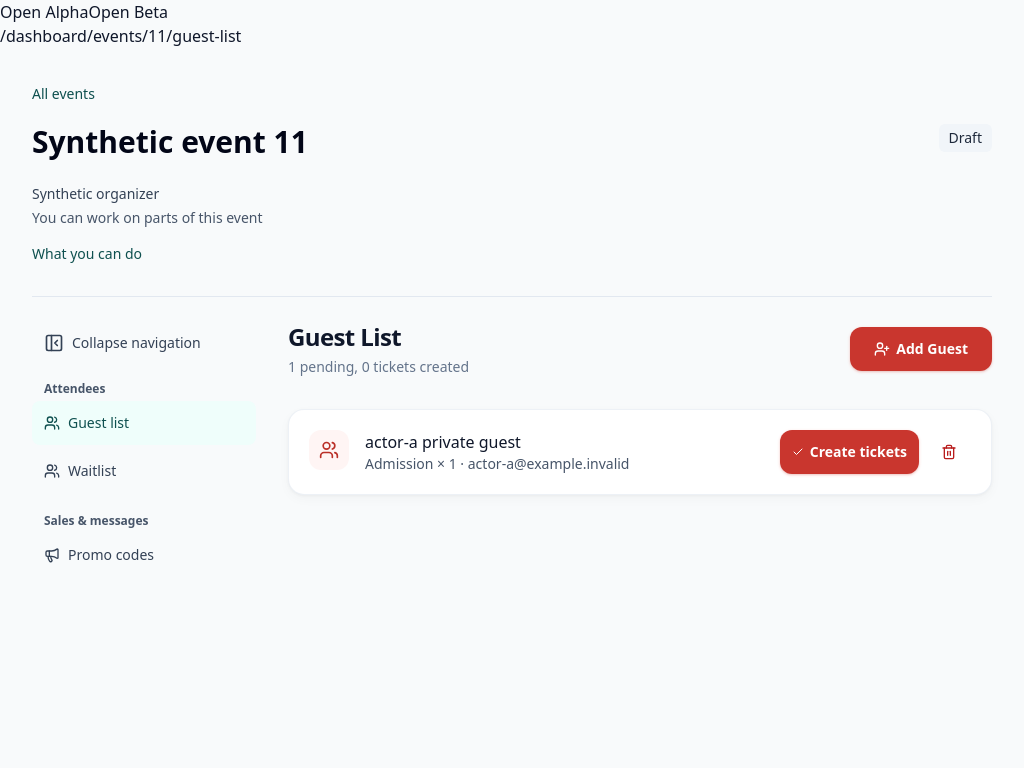
it: withdraws an earlier write across a account replacement
Click the button "Create tickets": coordinates (849, 452) [780,430,919,474]
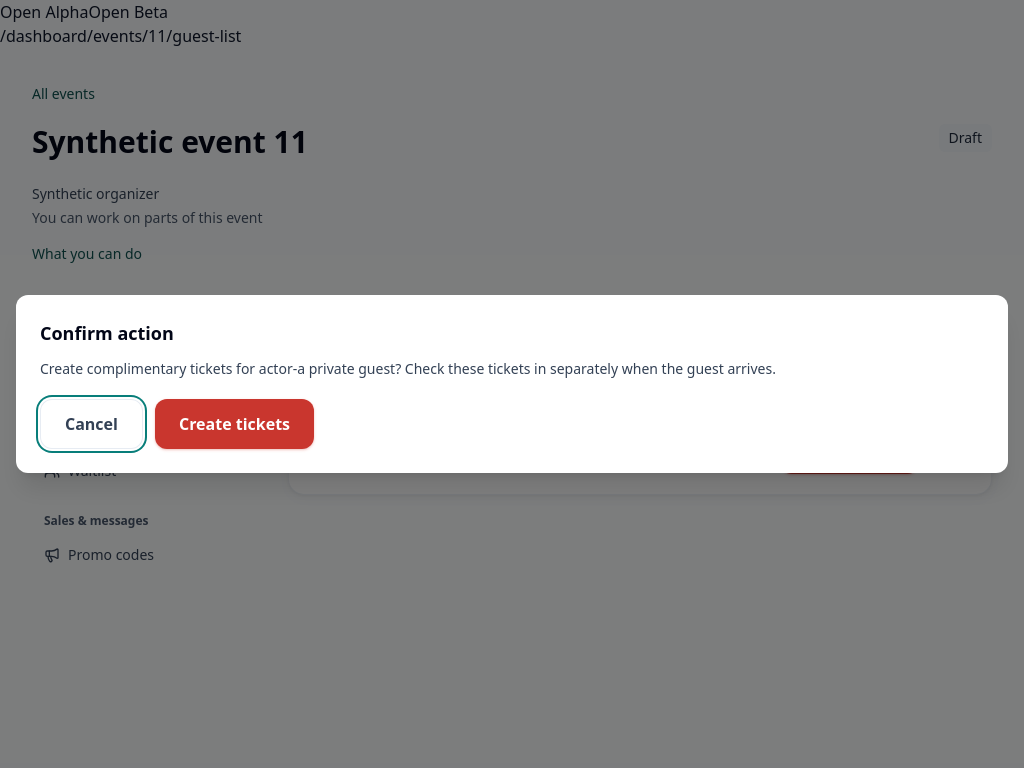
Click the button "Create tickets": coordinates (234, 424) [155,399,314,449]
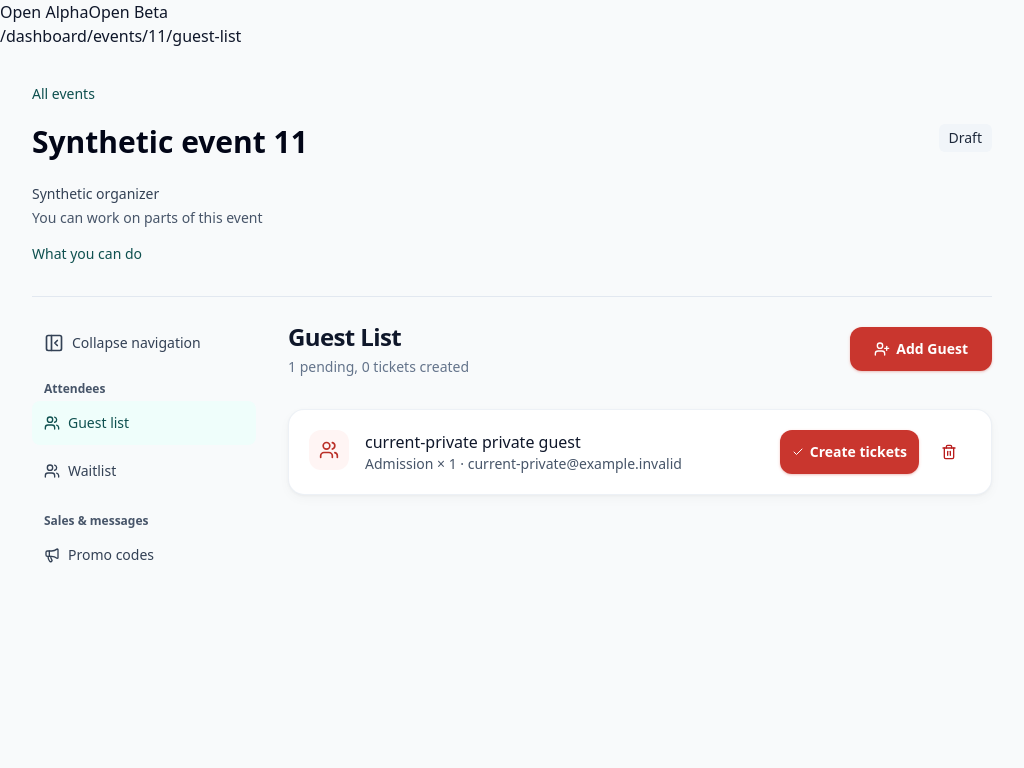
Expected: the text "actor-a private" is gone
